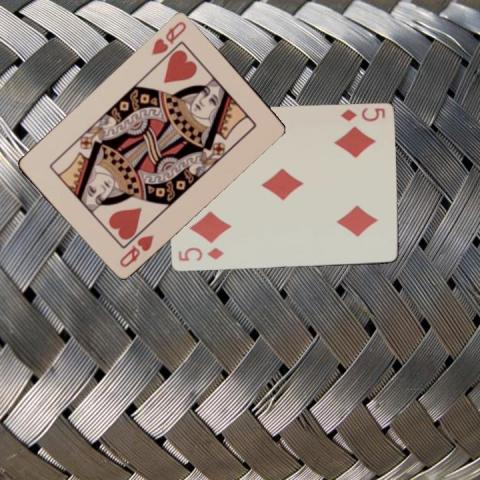5d: (175, 244, 224, 262), (337, 106, 386, 124)
Qh: (148, 18, 188, 57), (116, 231, 155, 269)
